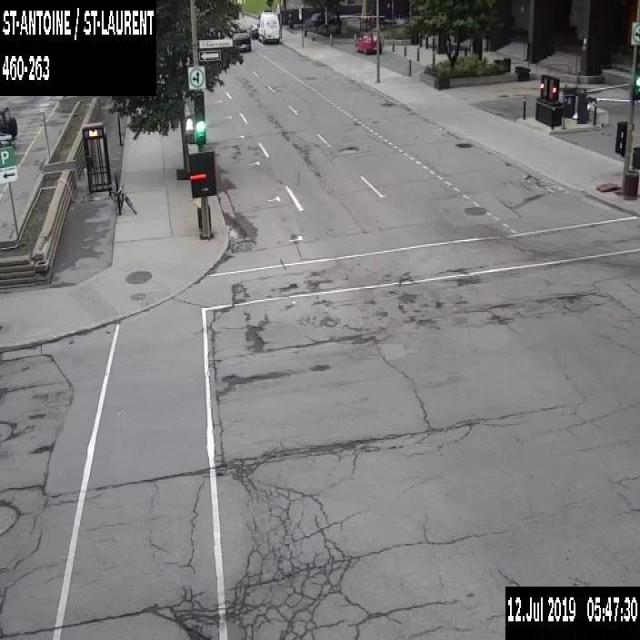vehicle: (257, 10, 280, 44), (0, 105, 17, 143), (354, 32, 381, 53), (232, 31, 250, 51), (248, 22, 258, 36)
